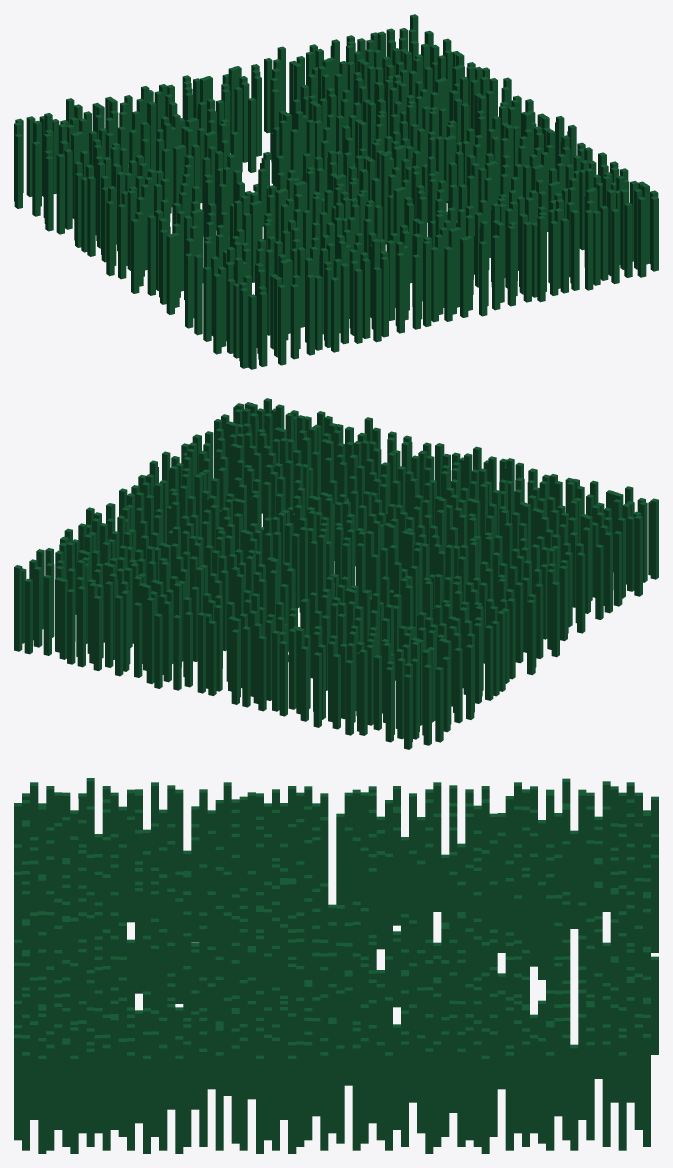
File: grass_6_overtile.glb
3 views of the same model, one above another, from view 1: azimuth 30°, elevation 25°; view 2: azimuth 150°, elevation 25°; view 3: azimuth 270°, elevation 25° (orthographic). The views are drawn at different scales.
Visible parts, largest first — view 1: grass_6_overtile; view 2: grass_6_overtile; view 3: grass_6_overtile.
Part boxes in pixels (x1,y1,x2,y2): grass_6_overtile: (14, 14, 658, 369); grass_6_overtile: (14, 398, 658, 749); grass_6_overtile: (14, 778, 658, 1153).
Bounding box in the file's own units: 8 × 1.6 × 8.
Materials: 1 (1 with a texture image).
